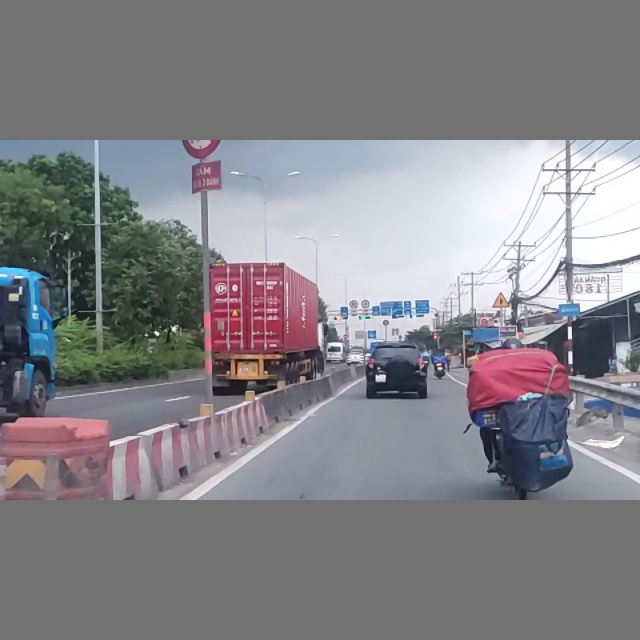W.207: (491, 291, 510, 308)
